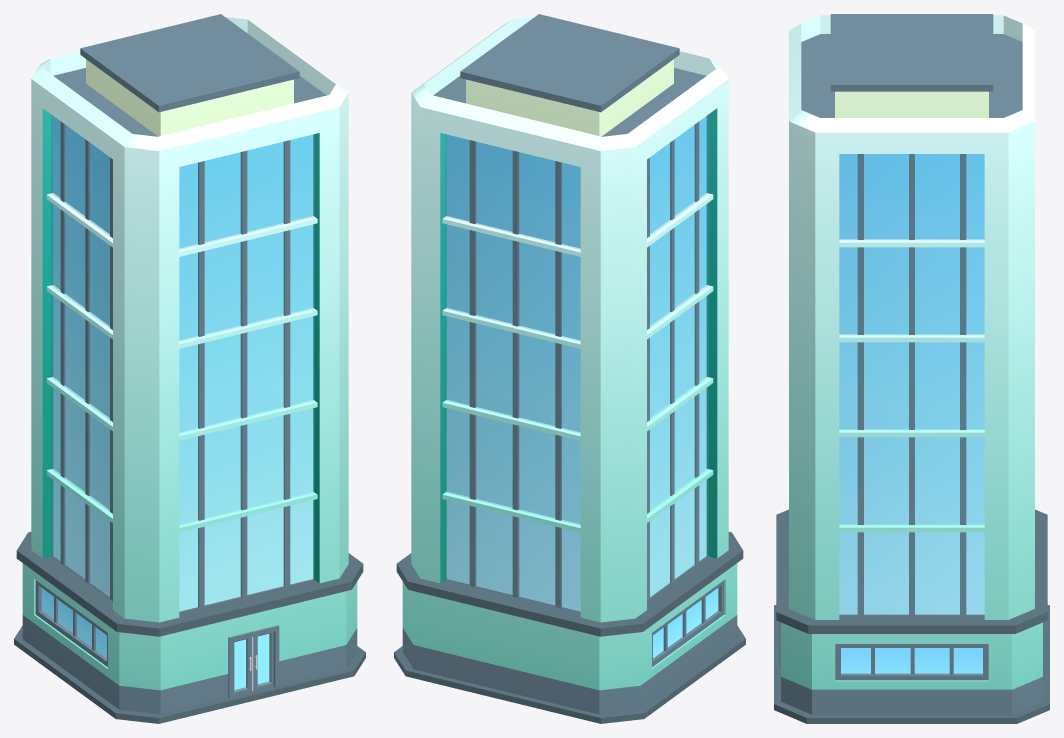
The model's file is city2-building-living-47.glb.
The picture shows the model from 3 angles, left to right: view 1: azimuth 30°, elevation 25°; view 2: azimuth 150°, elevation 25°; view 3: azimuth 270°, elevation 25°; orthographic projection. The views are drawn at different scales.
Visible parts, largest first — view 1: Building_Living_47; view 2: Building_Living_47; view 3: Building_Living_47.
Part boxes in pixels (box(x1,y1,x2,y2)): Building_Living_47: box(14, 14, 365, 723); Building_Living_47: box(394, 14, 745, 723); Building_Living_47: box(774, 14, 1049, 723).
Size of the model in its own units: 9.99 by 22.58 by 9.23.
Materials: 2 (2 with a texture image).
